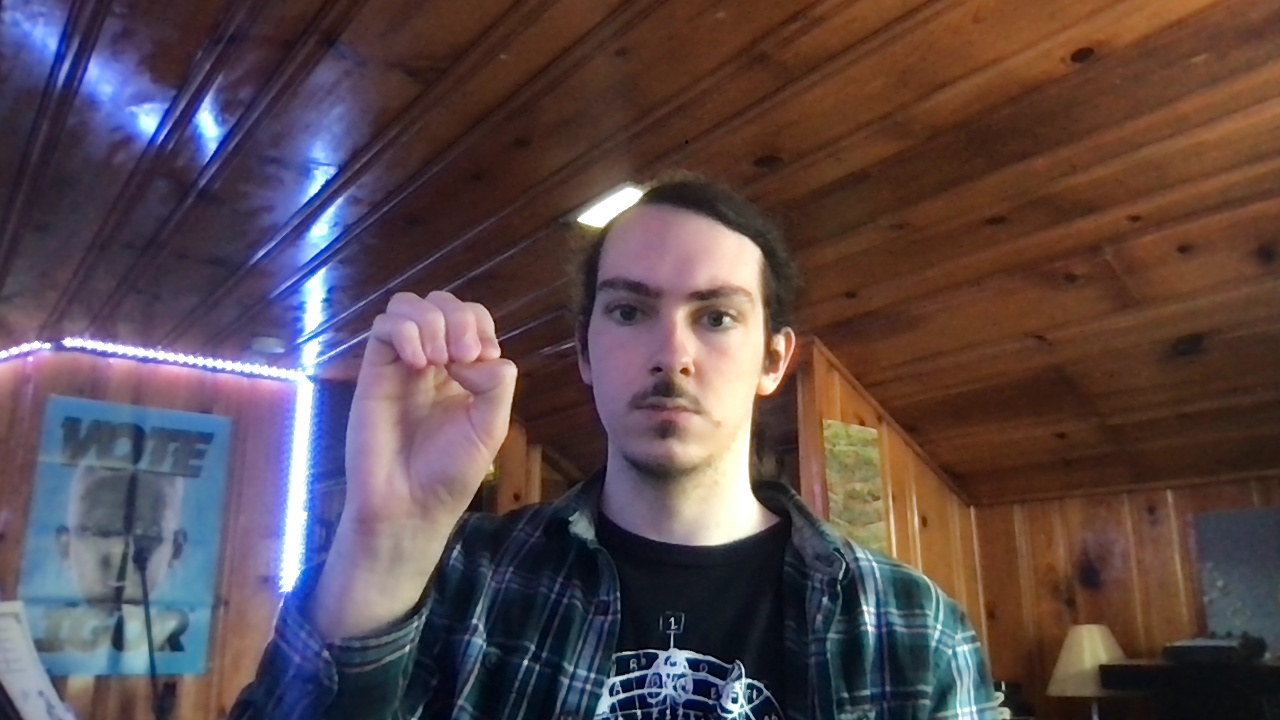e: (342, 288, 522, 525)
